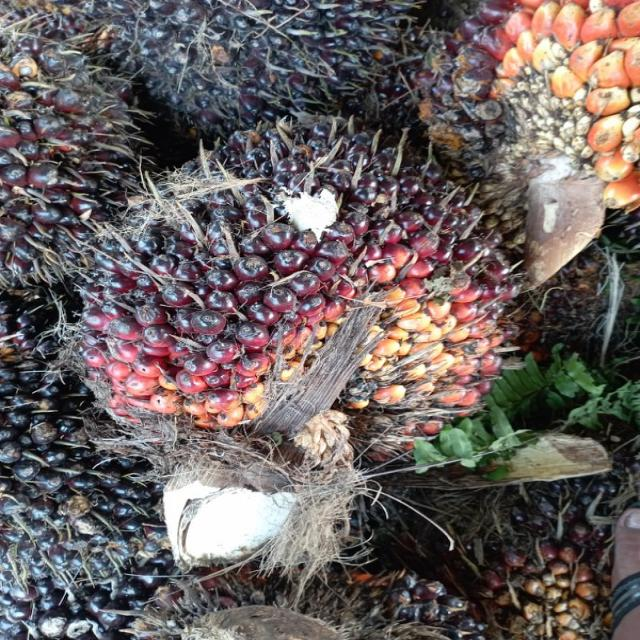fraksi 00: (0, 359, 203, 640), (61, 0, 448, 134)
fraksi 1: (61, 124, 527, 453)
